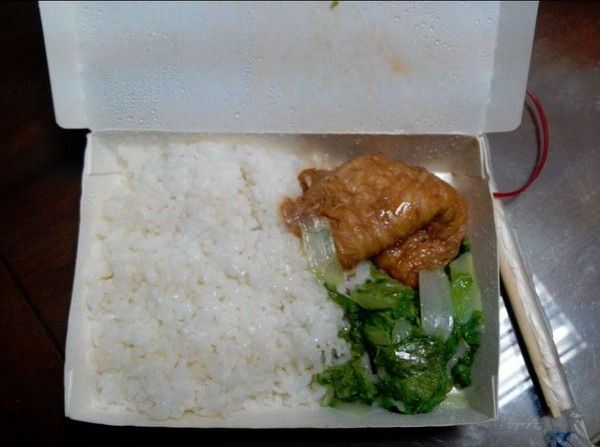rice: (113, 153, 295, 409)
